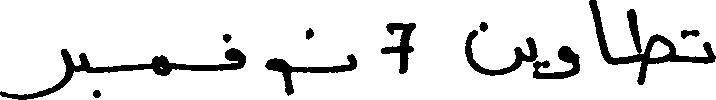X: (628, 4, 674, 89), (0, 44, 71, 99), (466, 17, 521, 80), (384, 18, 414, 78), (592, 0, 610, 68), (266, 53, 289, 99), (225, 29, 244, 74), (559, 41, 579, 83), (151, 50, 169, 80), (526, 32, 536, 83), (704, 37, 715, 68), (346, 49, 357, 75), (79, 48, 88, 77)
